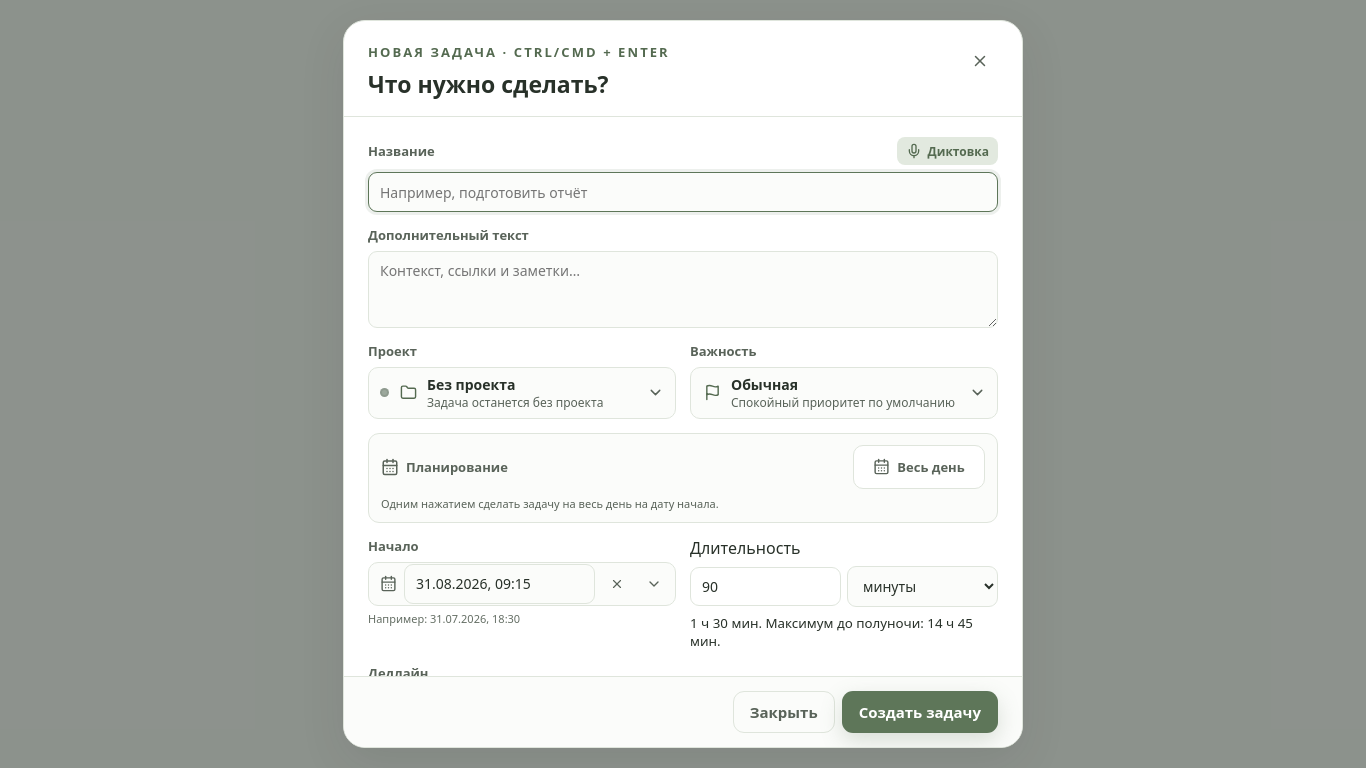
Test case: TaskEditor defaults and date validation › preserves the selected date, time and duration when switching all-day mode back off
This screenshot has width=1366, height=768.
Check: the dialog "Что нужно сделать?" is shown, box [343,20,1023,748]
Check: the text "Одним нажатием сделать задачу на весь день на дату начала." is shown, box [381,496,719,511]
Click the button "Весь день": [919, 467] box [853,445,985,489]
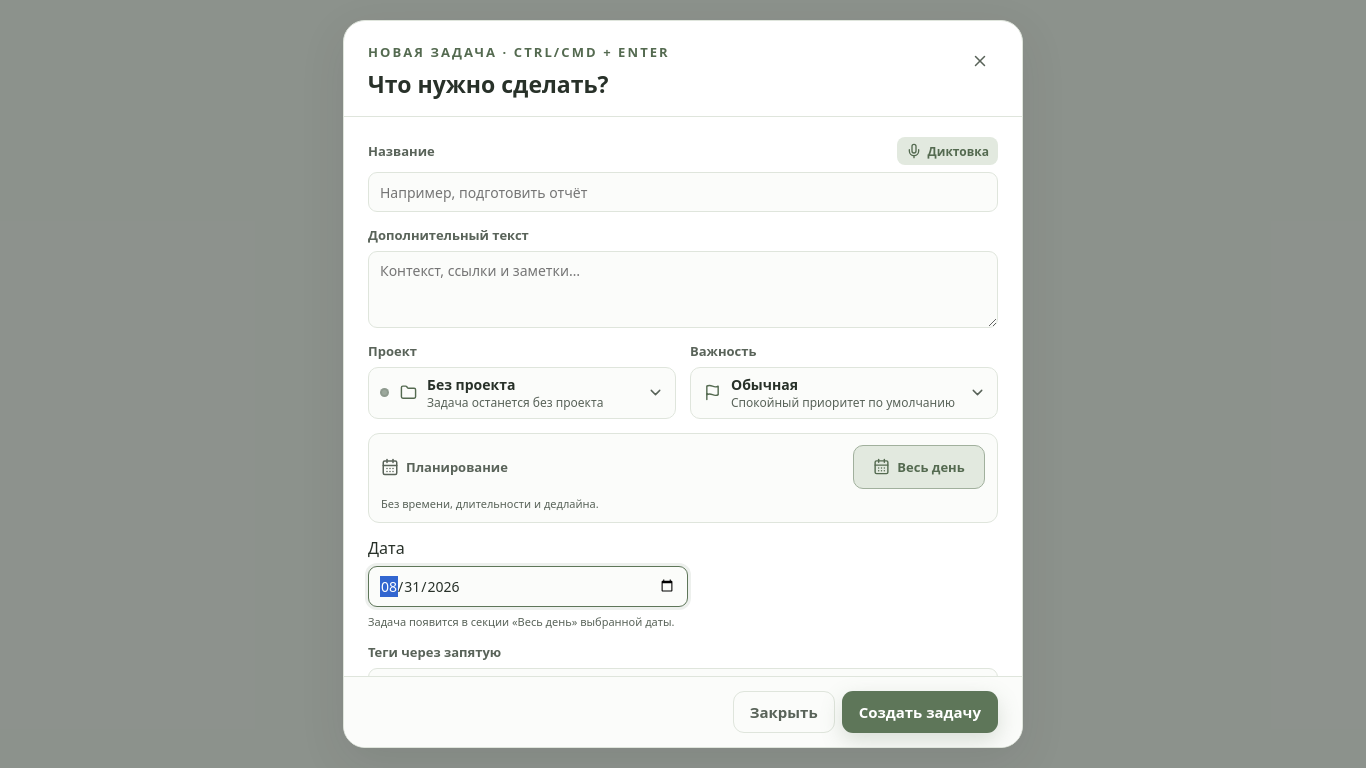
Check: the date field labelled "Дата" holds "2026-08-31"
In the date field labelled "Дата": [528, 586] box [368,566,688,607], type "2026-09-02"
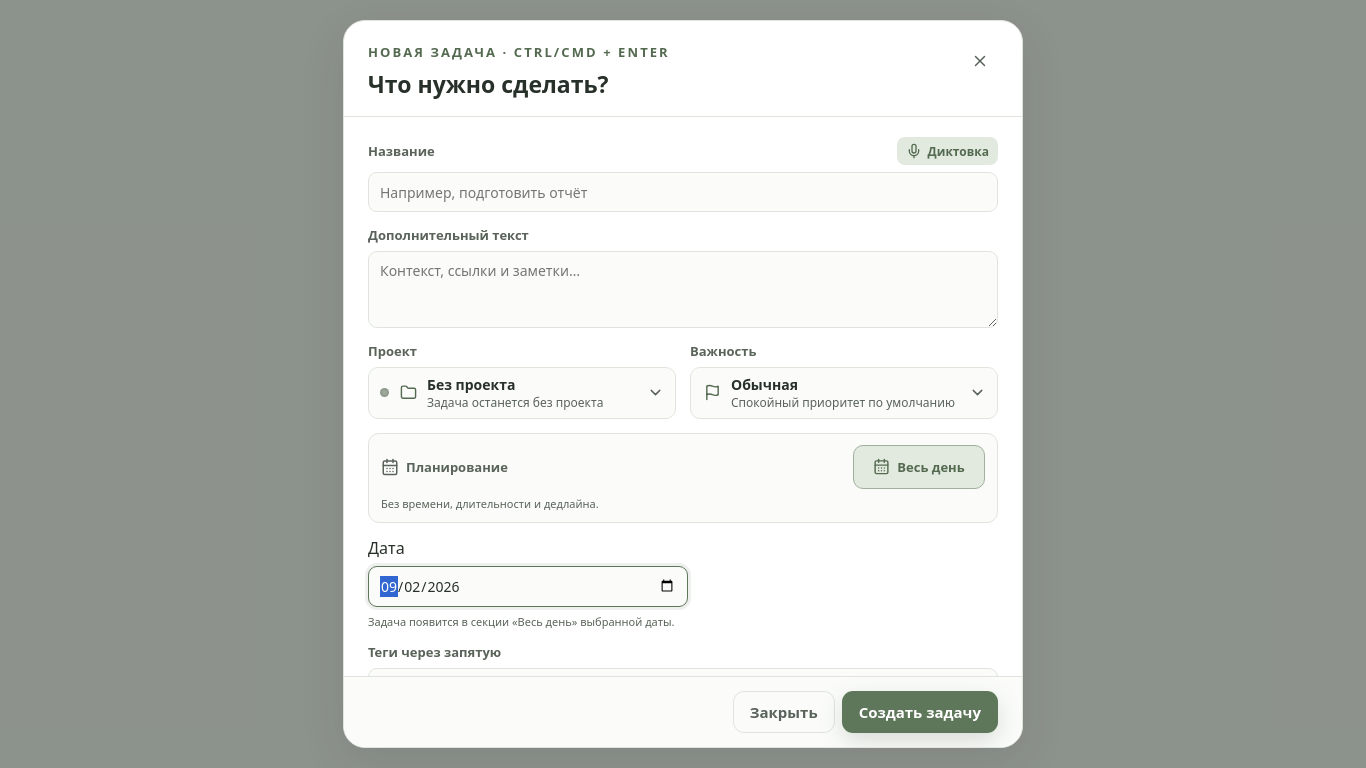
Click the button "Весь день": [919, 467] box [853,445,985,489]
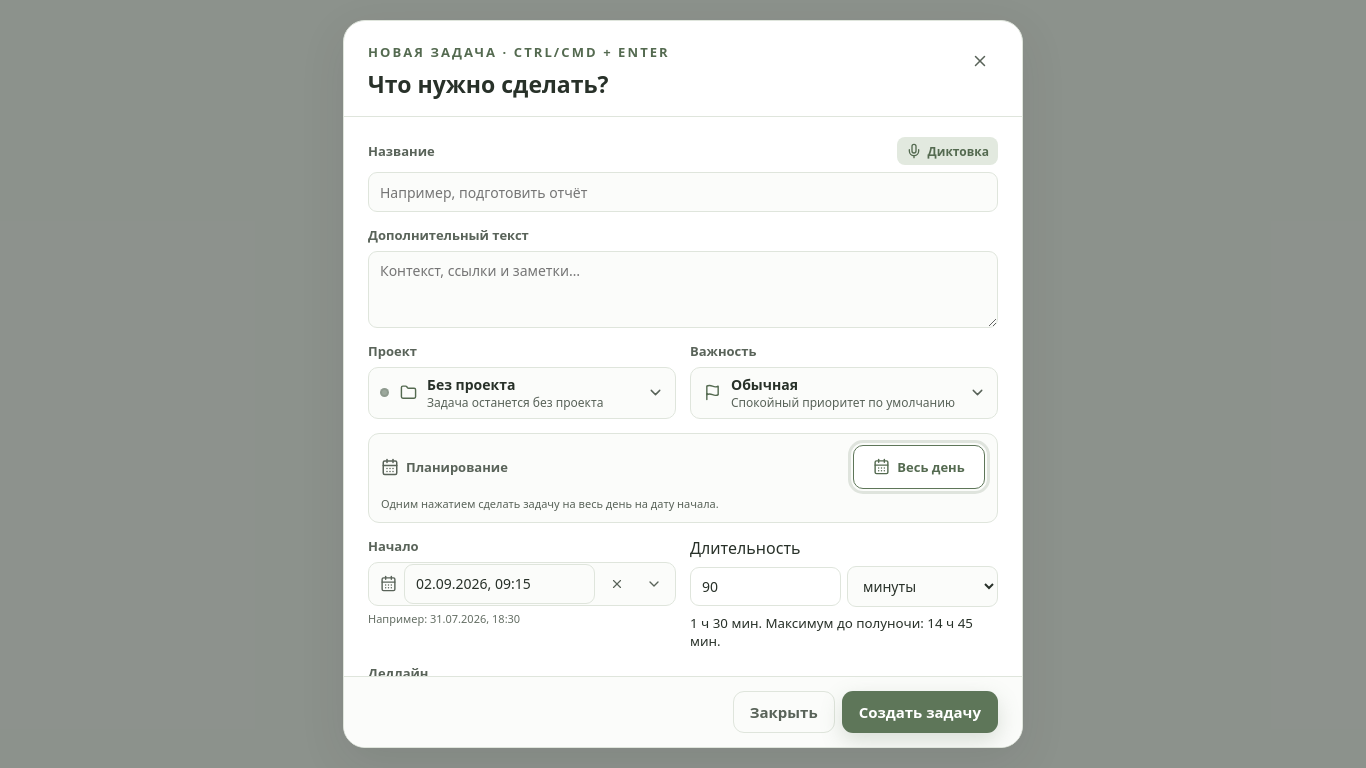
Check: the field labelled "Начало" holds "02.09.2026, 09:15", box [404,564,595,604]
Check: the number field labelled "Длительность" holds "90", box [690,567,841,606]
